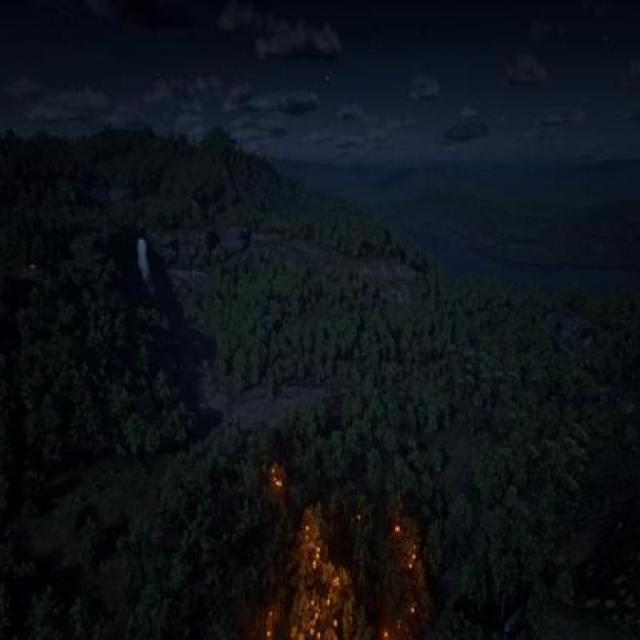Fire: (266, 458, 406, 640)
